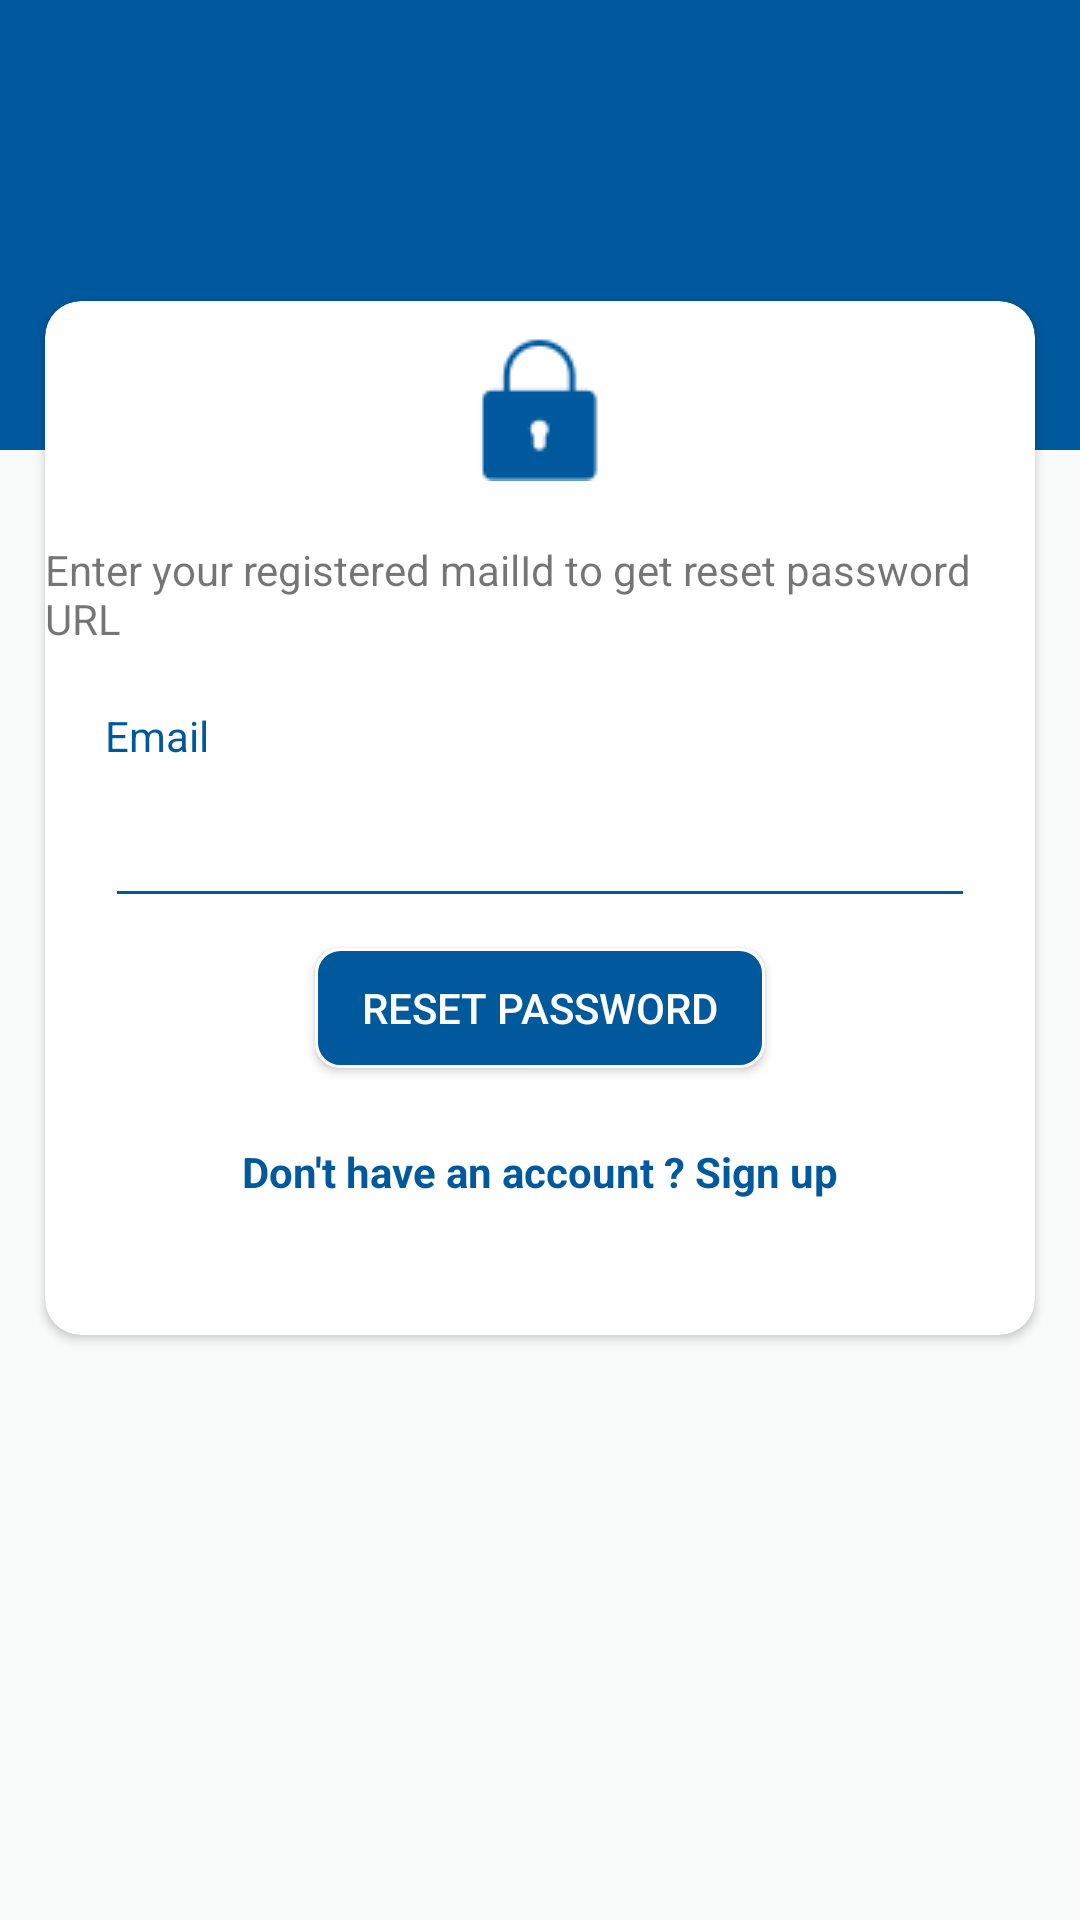

Screen size 1080px x 1920px. Icon name, then its box in pixels as (left=x1, top=y1, right=x2, bottom=y2):
lock: (left=482, top=339, right=598, bottom=481)
